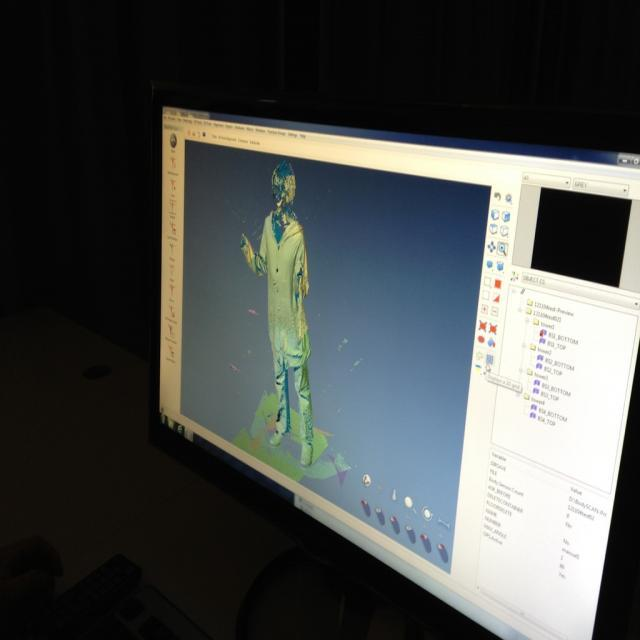others: (125, 89, 640, 628)
